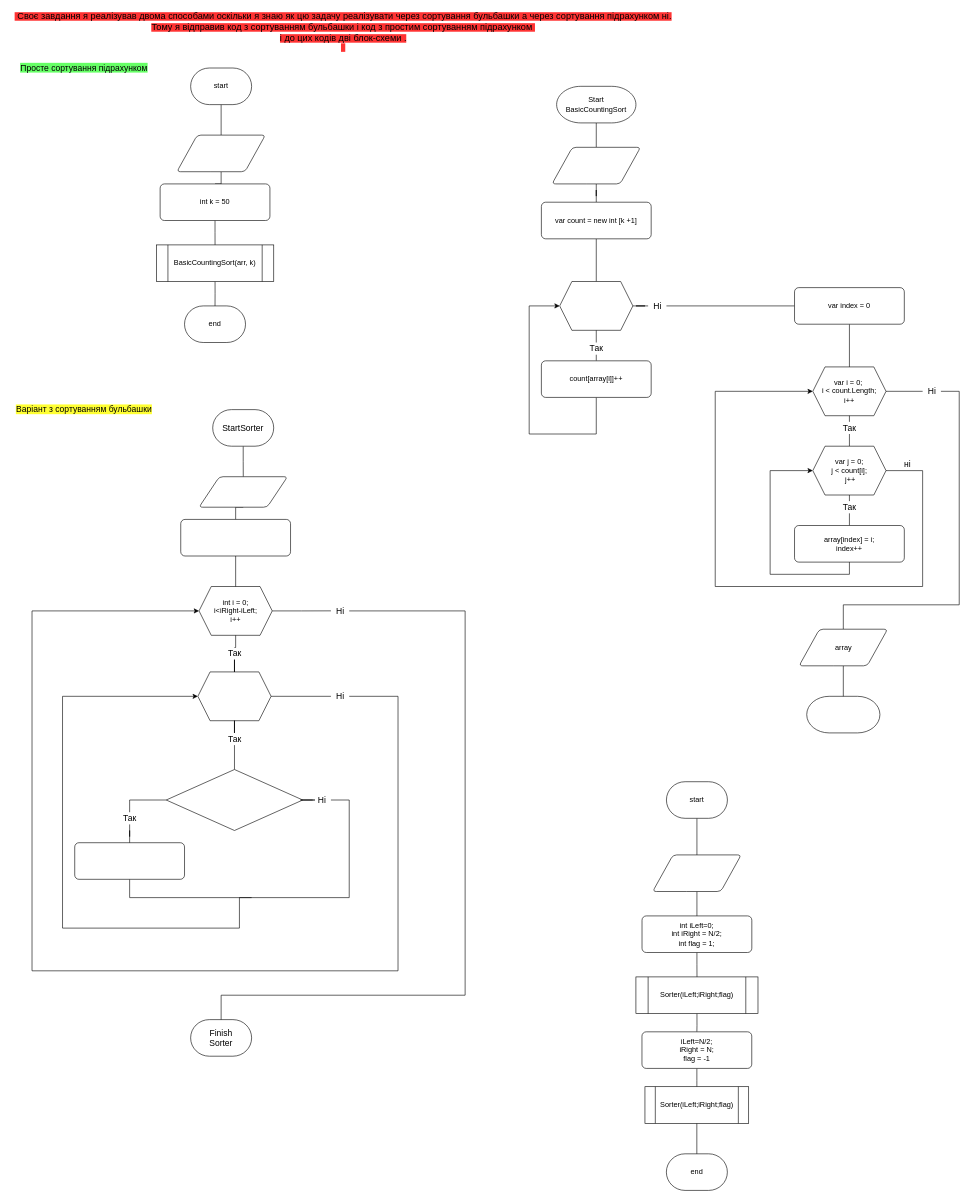
The diagram is 971 pixels wide and 1201 high, and some of its shapes have lost their labels. The shapes that lost their labels are listed below. From the top down, each one's box as (x1, y1, x2, y2) in pixels, then its label:
(176, 135, 265, 172): int[]arr
(551, 147, 640, 184): int[] array int k
(559, 281, 633, 330): var i = 0; i<array.Length; i++
(198, 476, 287, 507): int iLeft; int iRight; int flag
(180, 519, 291, 556): int[]Array
(197, 671, 271, 721): int j = iLeft; j<iRght-1; j++
(806, 696, 880, 733): finish BasicCountingSort
(166, 769, 303, 831): flag*(Array[j]-Array[j +1])>0
(74, 842, 185, 879): int tmp = Array[j]; Array[j] = Array[j + 1]; Array[j + 1] = tmp;
(652, 854, 741, 892): int N
